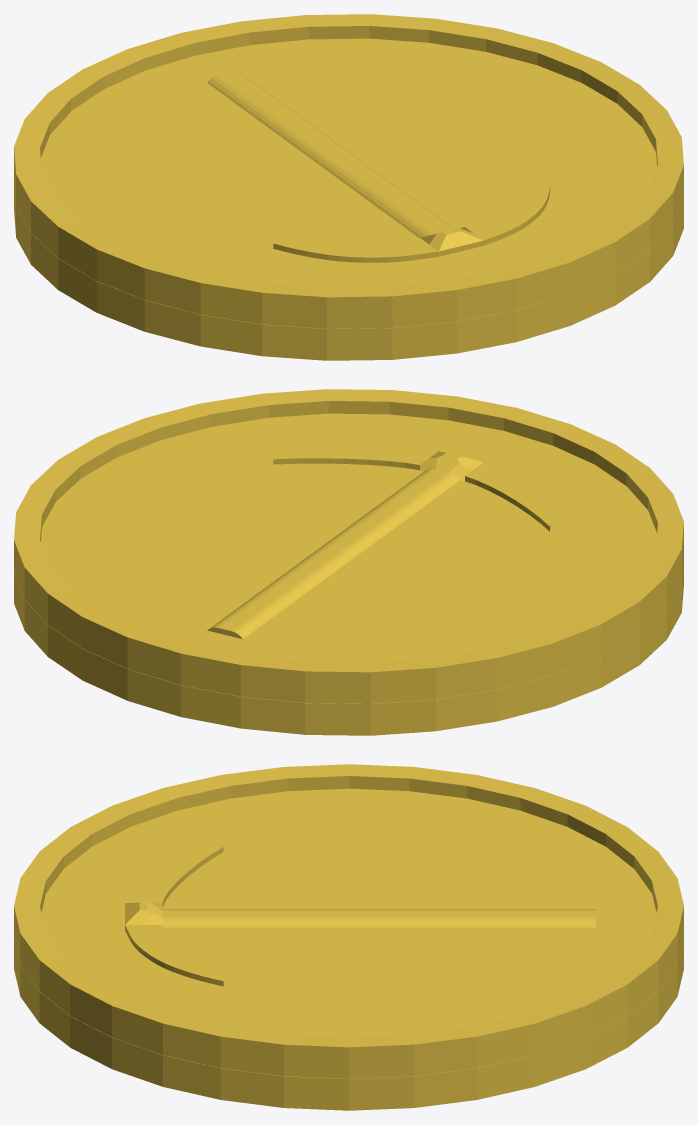
The model's file is coin.fbx.
3 renders of one model, top to bottom at view 1: azimuth 30°, elevation 25°; view 2: azimuth 150°, elevation 25°; view 3: azimuth 270°, elevation 25°, orthographic.
Visible parts, largest first — view 1: Cylinder; view 2: Cylinder; view 3: Cylinder.
Boxes of the visible parts, <box> form: Cylinder: <box>14,14,683,360</box>; Cylinder: <box>14,389,683,735</box>; Cylinder: <box>14,764,683,1110</box>.
Size of the model in its own units: 217 by 22.63 by 217.
